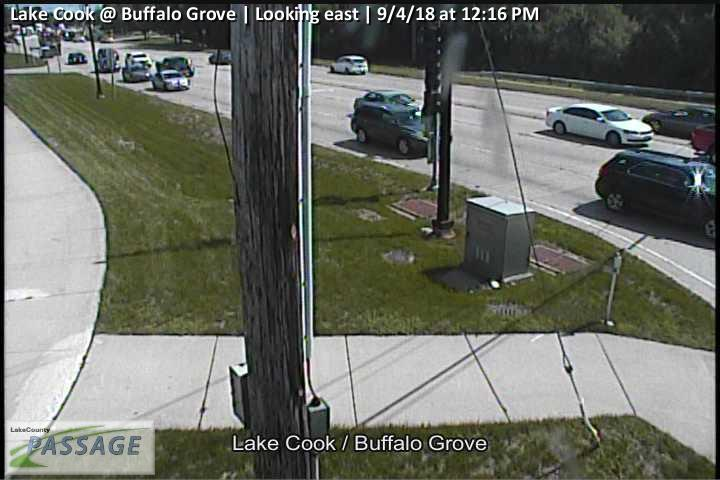SUV: (596, 147, 720, 239), (351, 101, 450, 159), (330, 55, 368, 76), (156, 55, 192, 76), (126, 52, 152, 69)
Sedan: (545, 103, 654, 148), (643, 105, 718, 142), (354, 90, 424, 124), (152, 69, 190, 91), (123, 65, 150, 81), (209, 51, 232, 64), (67, 51, 87, 64)
